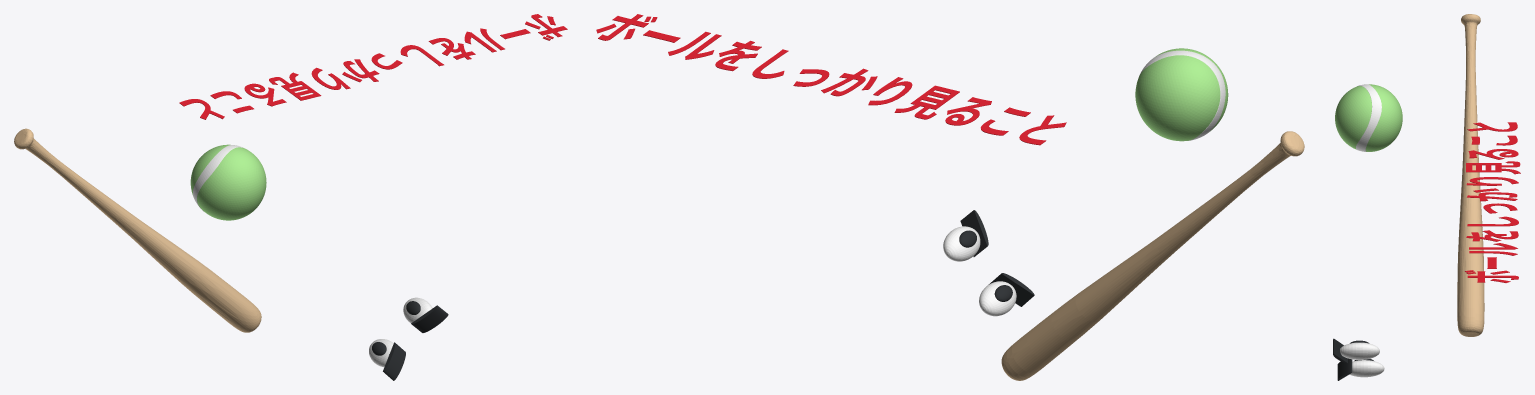
File: tinker.obj
3 renders of one model, left to right at view 1: azimuth 30°, elevation 25°; view 2: azimuth 150°, elevation 25°; view 3: azimuth 270°, elevation 25°, orthographic. The views are drawn at different scales.
Parts seen in each view (by area): view 1: group_0_14860437, group_0_11135887, group_0_15277357, group_0_2829873, group_0_16448250; view 2: group_0_14860437, group_0_11135887, group_0_15277357, group_0_16448250, group_0_2829873; view 3: group_0_14860437, group_0_15277357, group_0_11135887, group_0_16448250, group_0_2829873.
Boxes of the visible parts, x1,y1,x2,y2 form: group_0_14860437: (14,128,261,332); group_0_11135887: (190,144,266,220); group_0_15277357: (179,14,567,119); group_0_2829873: (372,301,448,380); group_0_16448250: (193,145,432,367); group_0_14860437: (1001,131,1304,380); group_0_11135887: (1135,48,1228,141); group_0_15277357: (596,14,1066,145); group_0_16448250: (943,50,1225,316); group_0_2829873: (959,210,1034,306); group_0_14860437: (1457,14,1484,336); group_0_15277357: (1465,122,1520,282); group_0_11135887: (1335,84,1402,151); group_0_16448250: (1340,84,1384,377); group_0_2829873: (1333,338,1373,380).
Size of the model in its own units: 126 by 58.2 by 41.33.
